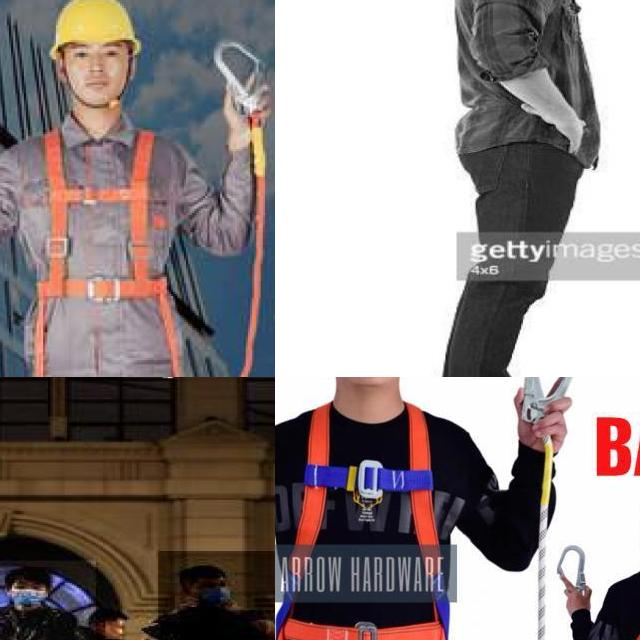Harness: (19, 119, 192, 377), (275, 404, 451, 640)
face_mask: (189, 576, 230, 604), (10, 578, 46, 606)
face_nomask: (105, 621, 124, 640)
head_nohelmet: (165, 562, 235, 583), (5, 567, 55, 583)
person: (435, 0, 604, 377), (158, 551, 275, 640), (0, 560, 98, 640)
